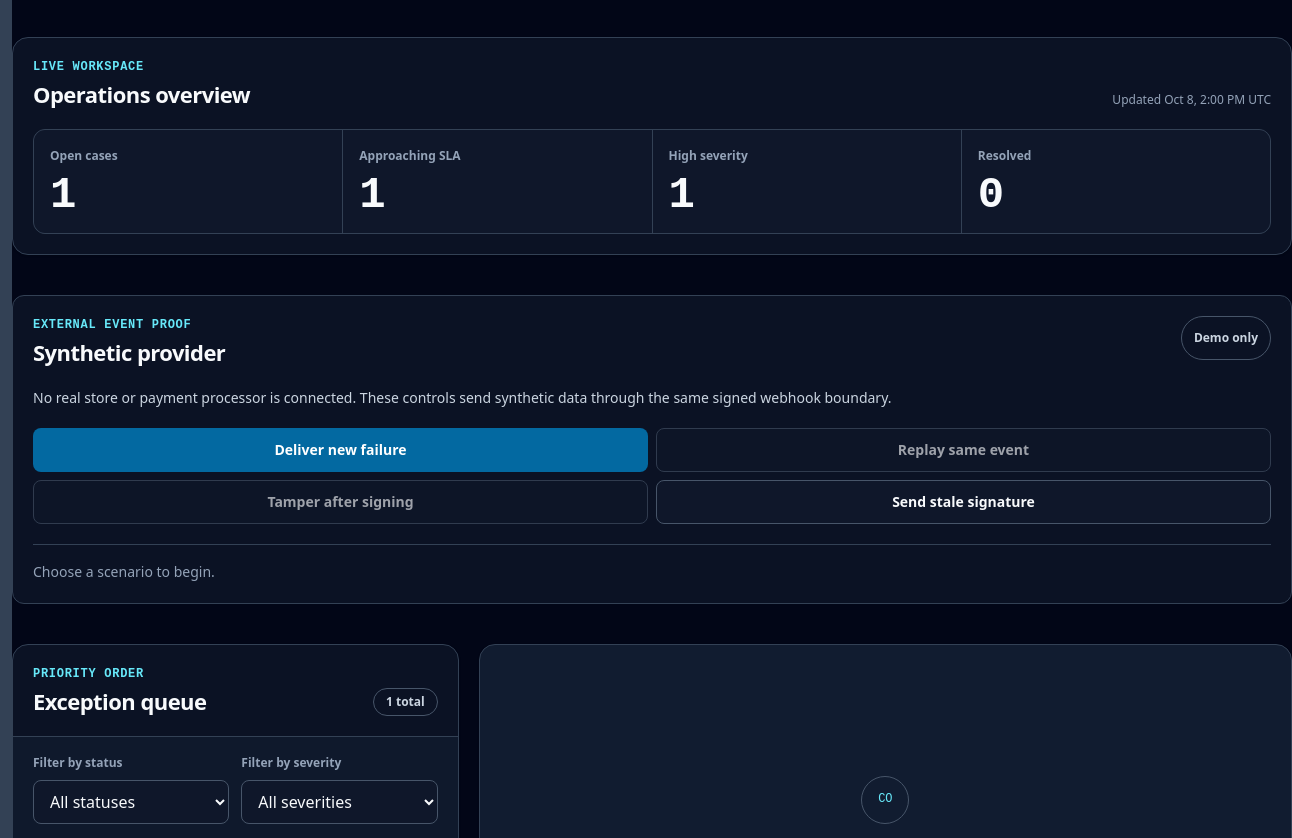
Scenario: I04 webhook simulator workspace integration › uses the latest queue filters when delivery completes after a filter change
(page scrolled)
Click the button "Deliver new failure" at {"x": 340, "y": 450}, box [33,428,648,472]
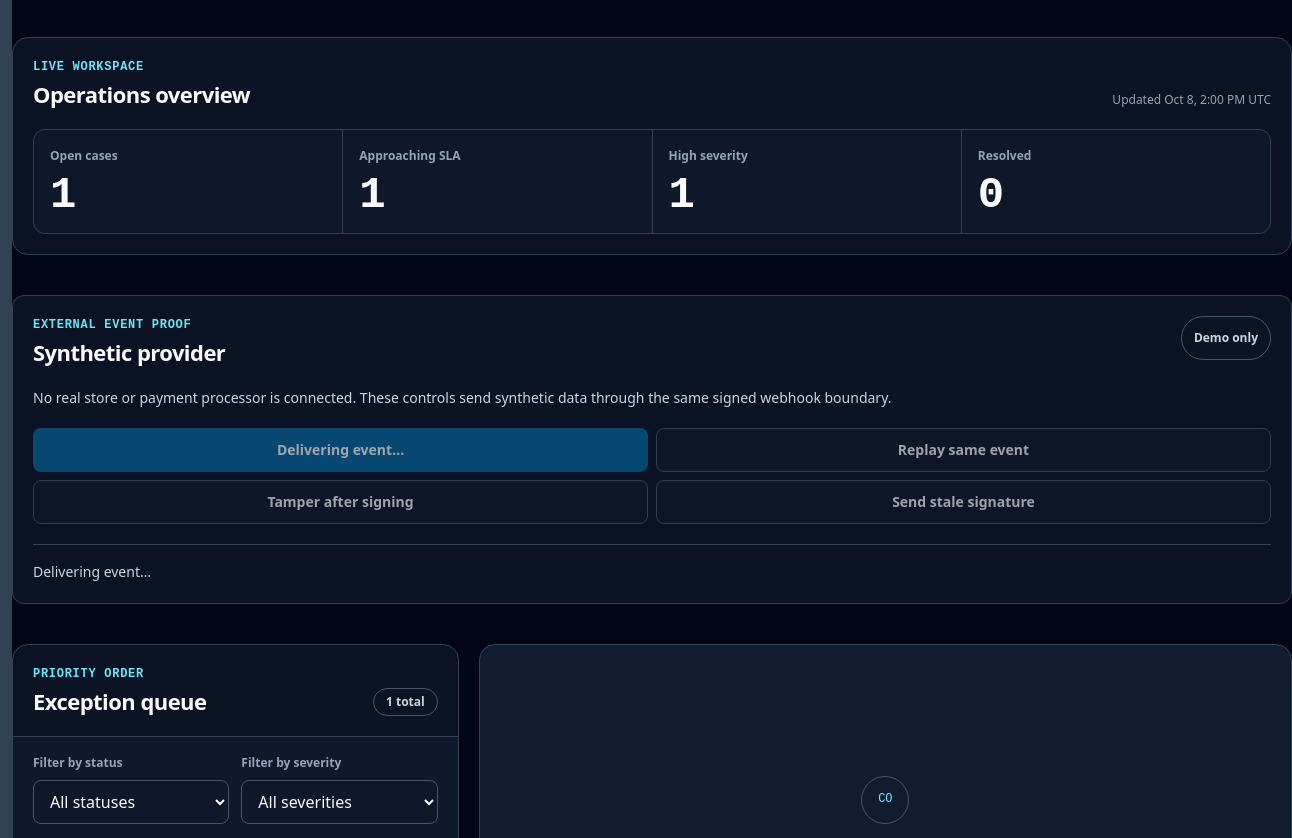
Select "Resolved" in the dropdown labelled "Filter by status" at {"x": 131, "y": 802}, box [33,780,229,824]
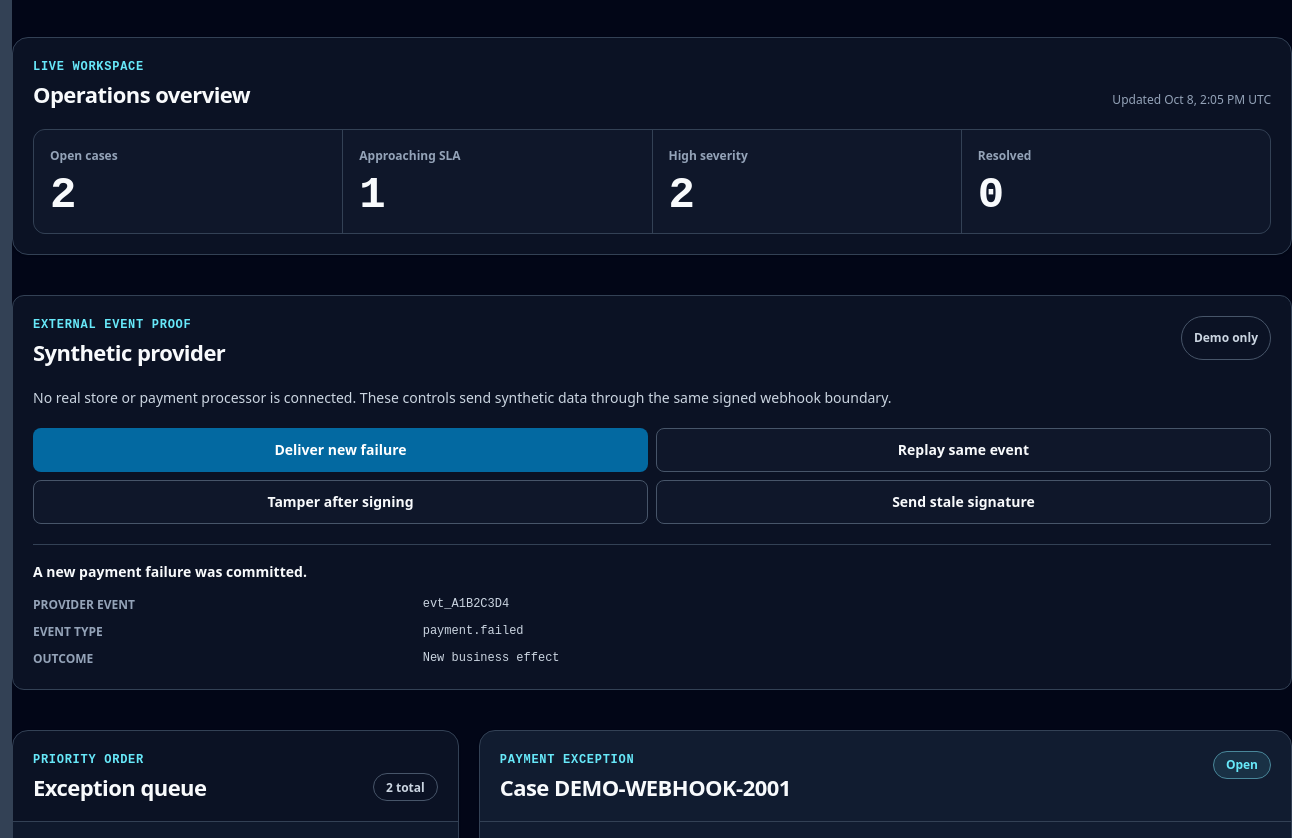
Now the heading "Case DEMO-WEBHOOK-2001" is shown, box [500,774,791,801]
